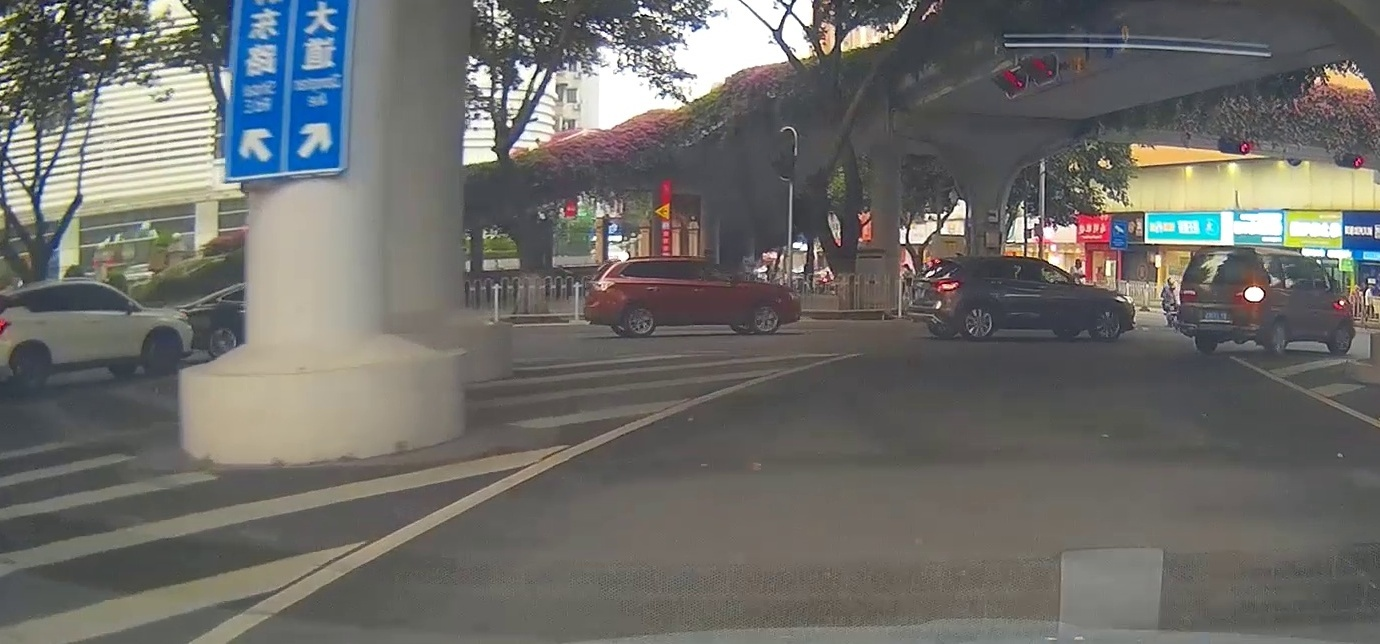L_light: (1181, 290, 1197, 301)
R_light: (1236, 286, 1264, 303)
T_light: (1211, 253, 1230, 258)
day-right: (1181, 245, 1271, 354)
